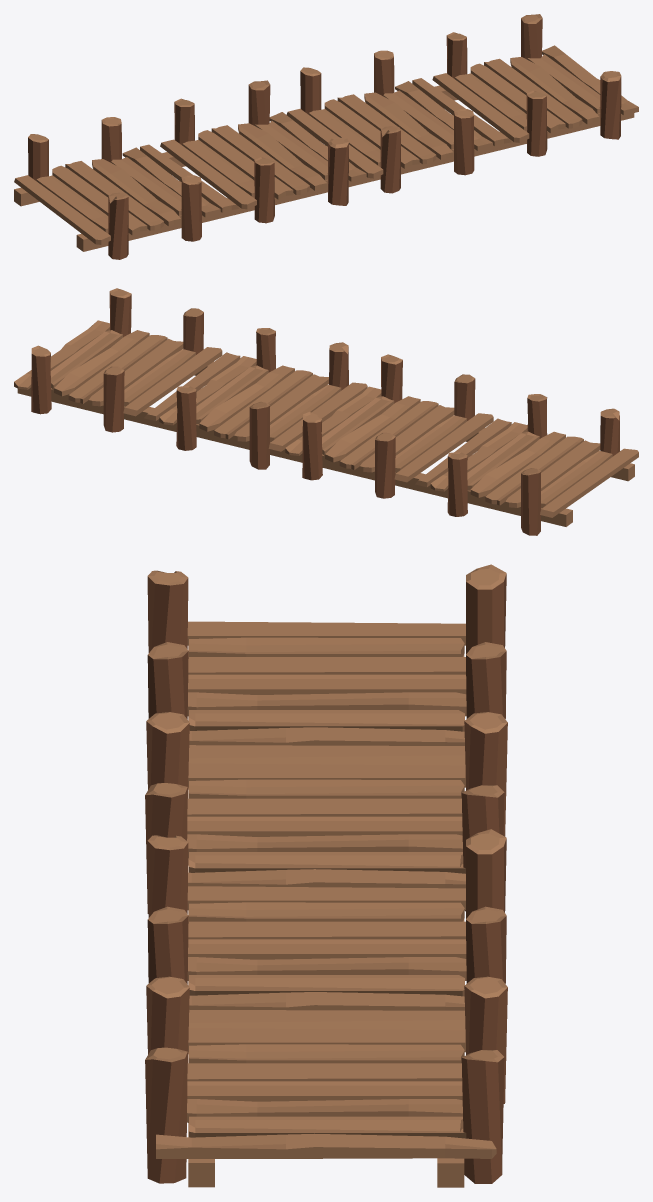
File: Cais_Duas_Entradas.fbx
The picture shows the model from 3 angles, top to bottom: view 1: azimuth 30°, elevation 25°; view 2: azimuth 150°, elevation 25°; view 3: azimuth 270°, elevation 25°; orthographic projection. The views are drawn at different scales.
Parts seen in each view (by area): view 1: Plane; view 2: Plane; view 3: Plane.
Boxes of the visible parts, box(x1,y1,x2,y2) form: Plane: box(14, 14, 638, 259); Plane: box(14, 288, 638, 535); Plane: box(145, 564, 507, 1187).
Size of the model in its own units: 350 by 38.13 by 100.
